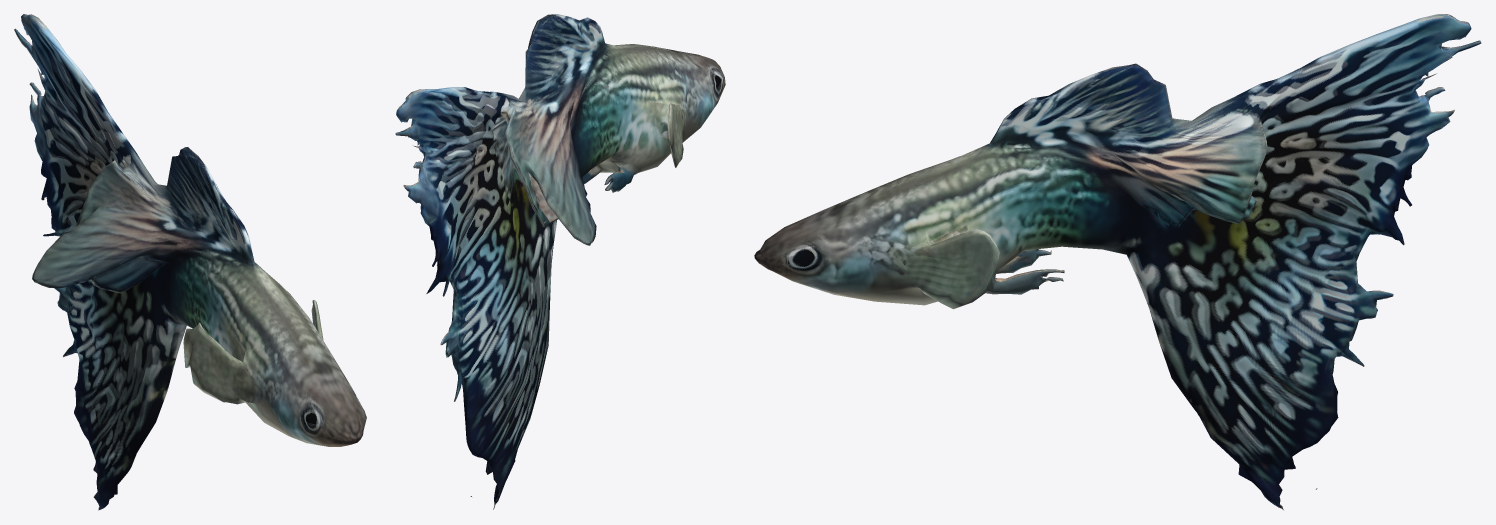
The model's file is mosaic_guppy_male.glb.
3 renders of one model, left to right at view 1: azimuth 30°, elevation 25°; view 2: azimuth 150°, elevation 25°; view 3: azimuth 270°, elevation 25°, orthographic. The views are drawn at different scales.
Parts seen in each view (by area): view 1: Object_5; view 2: Object_5; view 3: Object_5.
Part boxes in pixels (<box>): Object_5: <box>14,14,366,510</box>; Object_5: <box>395,14,725,509</box>; Object_5: <box>754,14,1481,509</box>.
Size of the model in its own units: 0.5726 by 1.44 by 1.9.
1 material, 1 textured.
